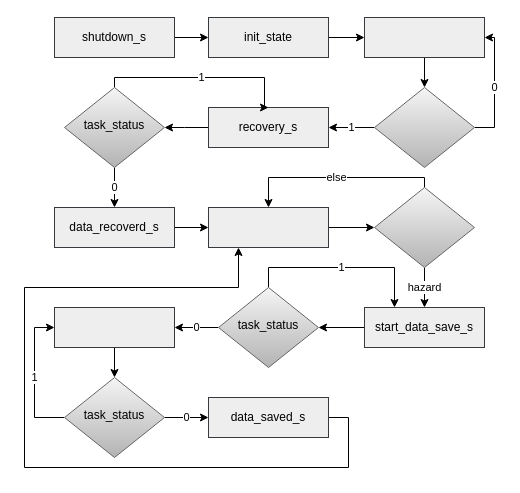
Image size: 520x493. Some labels were removed from this diagram. Each missing label, with the box of its shape:
data_save_s: (54, 306, 174, 348)
do_operation_s: (208, 206, 328, 248)
start_data_recovery_s: (364, 16, 484, 58)
tast_status: (374, 86, 474, 168)
thresh_stats: (374, 186, 474, 268)
